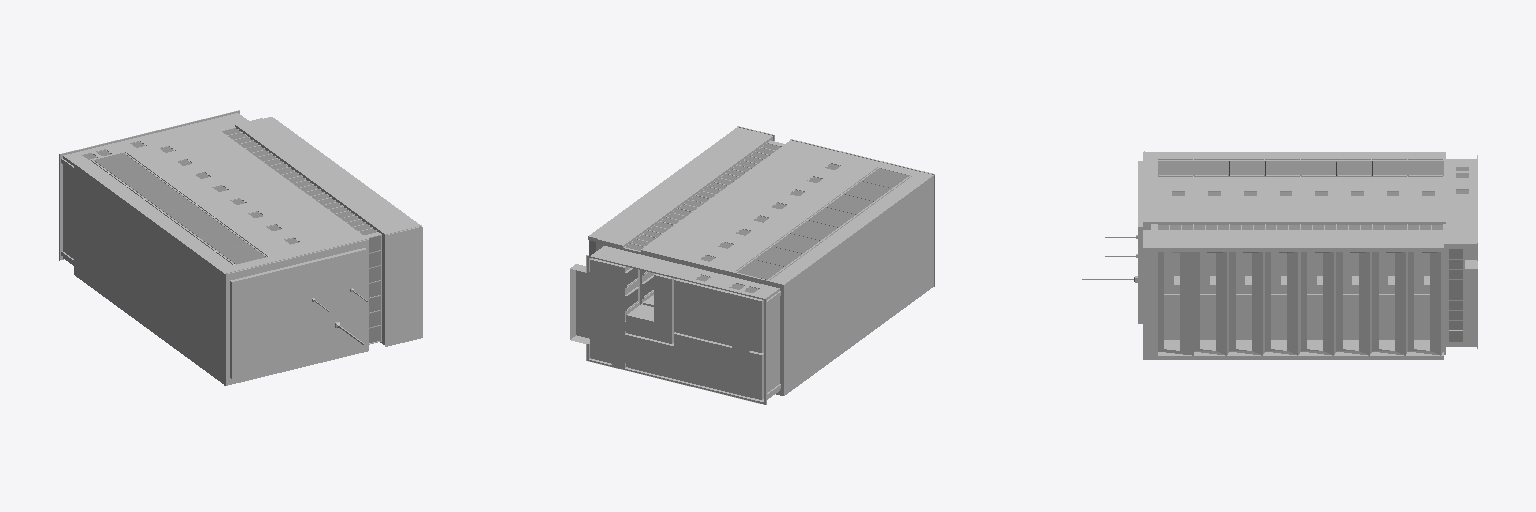
File: Building5.obj
The picture shows the model from 3 angles: view 1: azimuth 30°, elevation 25°; view 2: azimuth 150°, elevation 25°; view 3: azimuth 270°, elevation 25°; orthographic projection.
Parts seen in each view (by area): view 1: Residential_Buildings_005_Cube.006; view 2: Residential_Buildings_005_Cube.006; view 3: Residential_Buildings_005_Cube.006.
Part boxes in pixels (x1,y1,x2,y2): Residential_Buildings_005_Cube.006: (59, 110, 422, 385); Residential_Buildings_005_Cube.006: (570, 126, 934, 404); Residential_Buildings_005_Cube.006: (1082, 151, 1477, 359).
Bounding box in the file's own units: 23.1 × 12.59 × 39.99.